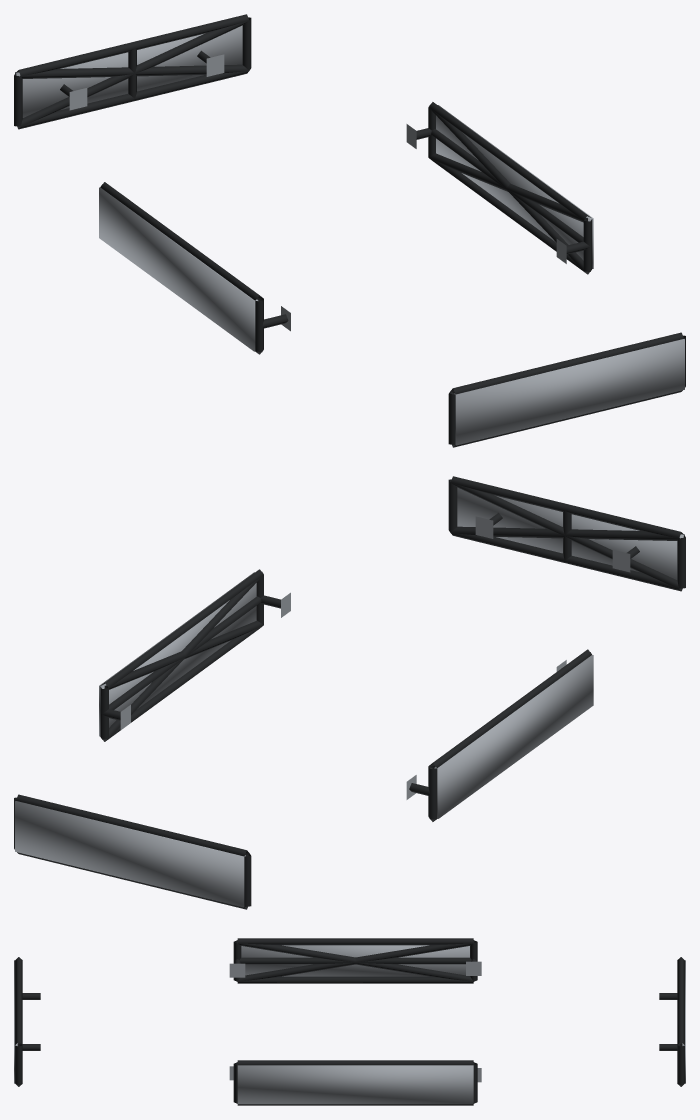
File: mizuchi_brasa_protecao.glb
3 views of the same model, one above another, from view 1: azimuth 30°, elevation 25°; view 2: azimuth 150°, elevation 25°; view 3: azimuth 270°, elevation 25° (orthographic). The views are drawn at different scales.
Visible parts, largest first — view 1: Protection_front_Level3_Details, Protection_left_Level3_Details, Protection_rear_Level1_Details, Protection_rear_Level3_Details, Protection_right_Level1_Details, Protection_rear_Level2_Details, Protection_right_Level2_Details, Protection_right_Level3_Details, Protection_front_Level1_Details, Protection_left_Level1_Details; view 2: Protection_rear_Level3_Details, Protection_left_Level3_Details, Protection_front_Level1_Details, Protection_front_Level3_Details, Protection_right_Level1_Details, Protection_front_Level2_Details, Protection_right_Level2_Details, Protection_right_Level3_Details, Protection_rear_Level1_Details, Protection_left_Level1_Details; view 3: Protection_right_Level3_Details, Protection_left_Level2_Details, Protection_left_Level1_Details, Protection_left_Level3_Details, Protection_right_Level1_Details, Protection_rear_Level1_Details, Protection_front_Level1_Details.
Boxes of the visible parts, left/top/right/bottom form: Protection_front_Level3_Details: left=454, top=339, right=684, bottom=445; Protection_left_Level3_Details: left=99, top=187, right=258, bottom=351; Protection_rear_Level1_Details: left=14, top=14, right=251, bottom=129; Protection_rear_Level3_Details: left=15, top=25, right=242, bottom=117; Protection_right_Level1_Details: left=406, top=102, right=592, bottom=274; Protection_rear_Level2_Details: left=16, top=21, right=248, bottom=128; Protection_right_Level2_Details: left=429, top=108, right=590, bottom=273; Protection_right_Level3_Details: left=436, top=105, right=593, bottom=268; Protection_front_Level1_Details: left=448, top=332, right=685, bottom=447; Protection_left_Level1_Details: left=100, top=182, right=290, bottom=354; Protection_rear_Level3_Details: left=15, top=801, right=245, bottom=907; Protection_left_Level3_Details: left=434, top=655, right=593, bottom=818; Protection_front_Level1_Details: left=448, top=476, right=685, bottom=591; Protection_front_Level3_Details: left=457, top=487, right=684, bottom=579; Protection_right_Level1_Details: left=100, top=569, right=290, bottom=741; Protection_front_Level2_Details: left=451, top=483, right=683, bottom=590; Protection_right_Level2_Details: left=101, top=575, right=263, bottom=741; Protection_right_Level3_Details: left=99, top=572, right=256, bottom=736; Protection_rear_Level1_Details: left=14, top=794, right=251, bottom=909; Protection_left_Level1_Details: left=406, top=649, right=591, bottom=821; Protection_right_Level3_Details: left=237, top=1065, right=473, bottom=1104; Protection_left_Level2_Details: left=237, top=940, right=473, bottom=981; Protection_left_Level1_Details: left=229, top=938, right=481, bottom=983; Protection_left_Level3_Details: left=241, top=945, right=469, bottom=976; Protection_right_Level1_Details: left=229, top=1060, right=481, bottom=1105; Protection_rear_Level1_Details: left=659, top=957, right=684, bottom=1086; Protection_front_Level1_Details: left=15, top=957, right=40, bottom=1086.
Size of the model in its own units: 2.11 by 0.354 by 4.75.
Materials: 1 (1 with a texture image).
